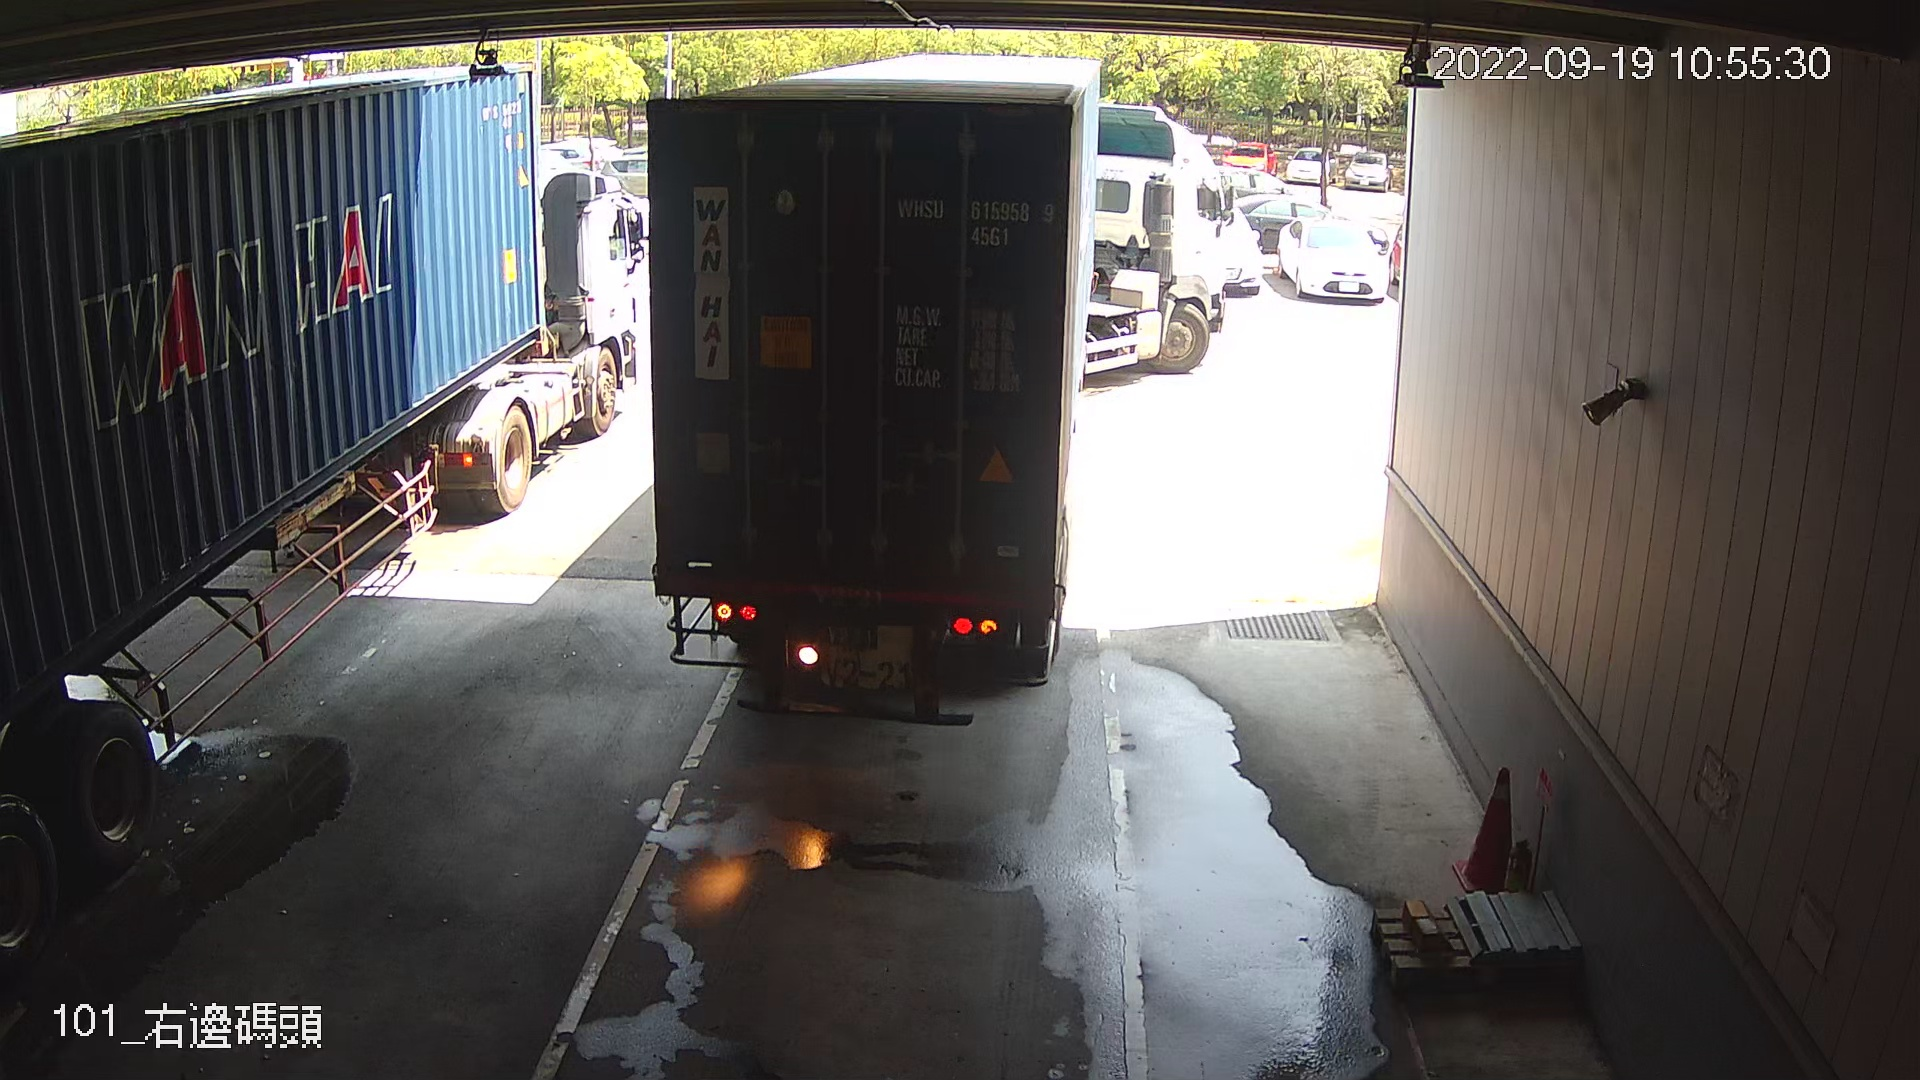container: (887, 189, 1059, 255)
